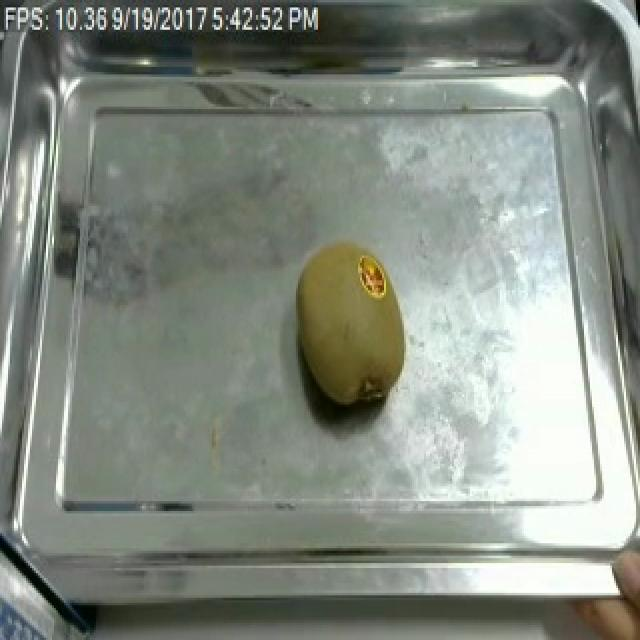Fruit: (286, 236, 418, 414)
